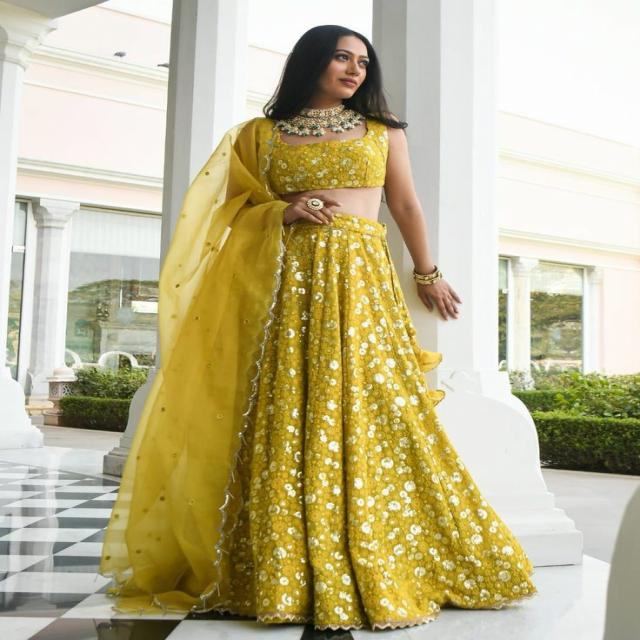female-dress: (148, 214, 514, 617), (190, 116, 474, 628), (209, 115, 417, 203)
